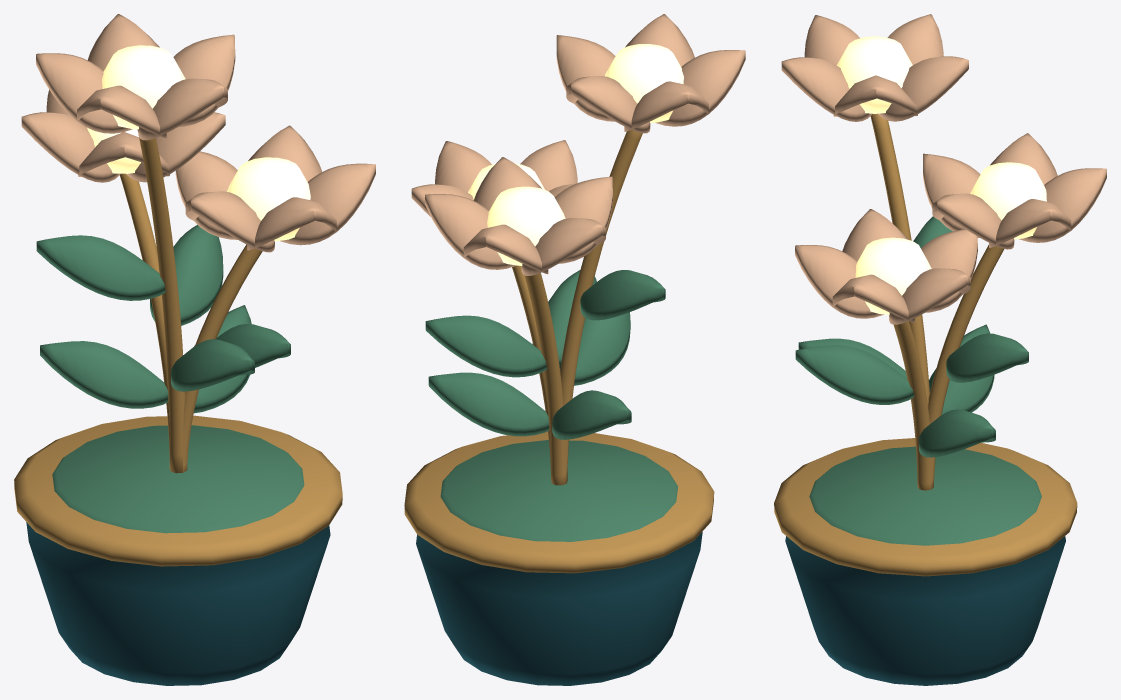
Rendered from dream_blossom.glb.
3 views of the same model, side by side, from view 1: azimuth 30°, elevation 25°; view 2: azimuth 150°, elevation 25°; view 3: azimuth 270°, elevation 25° (orthographic). The views are drawn at different scales.
Visible parts, largest first — view 1: DreamLeafSculpture, DreamTealSculpture, DreamBrassSculpture, DreamFlower01, DreamFlower00, DreamFlower02; view 2: DreamLeafSculpture, DreamTealSculpture, DreamBrassSculpture, DreamFlower01, DreamFlower02, DreamFlower00; view 3: DreamLeafSculpture, DreamTealSculpture, DreamBrassSculpture, DreamFlower01, DreamFlower00, DreamFlower02.
Part boxes in pixels (x1,y1,x2,y2): DreamLeafSculpture: (36, 225, 304, 533); DreamTealSculpture: (26, 522, 330, 685); DreamBrassSculpture: (14, 129, 342, 566); DreamFlower01: (36, 14, 235, 140); DreamFlower00: (175, 125, 375, 252); DreamFlower02: (21, 89, 225, 182); DreamLeafSculpture: (425, 270, 677, 541); DreamTealSculpture: (416, 532, 702, 685); DreamBrassSculpture: (404, 130, 714, 573); DreamFlower01: (556, 14, 745, 133); DreamFlower02: (425, 157, 612, 275); DreamFlower00: (411, 140, 577, 216); DreamLeafSculpture: (795, 216, 1041, 545); DreamTealSculpture: (785, 536, 1065, 685); DreamBrassSculpture: (774, 113, 1077, 576); DreamFlower01: (781, 14, 968, 121); DreamFlower00: (795, 209, 977, 324); DreamFlower02: (923, 133, 1106, 249).
Bounding box in the file's own units: 0.9118 × 1.8 × 0.9483.
